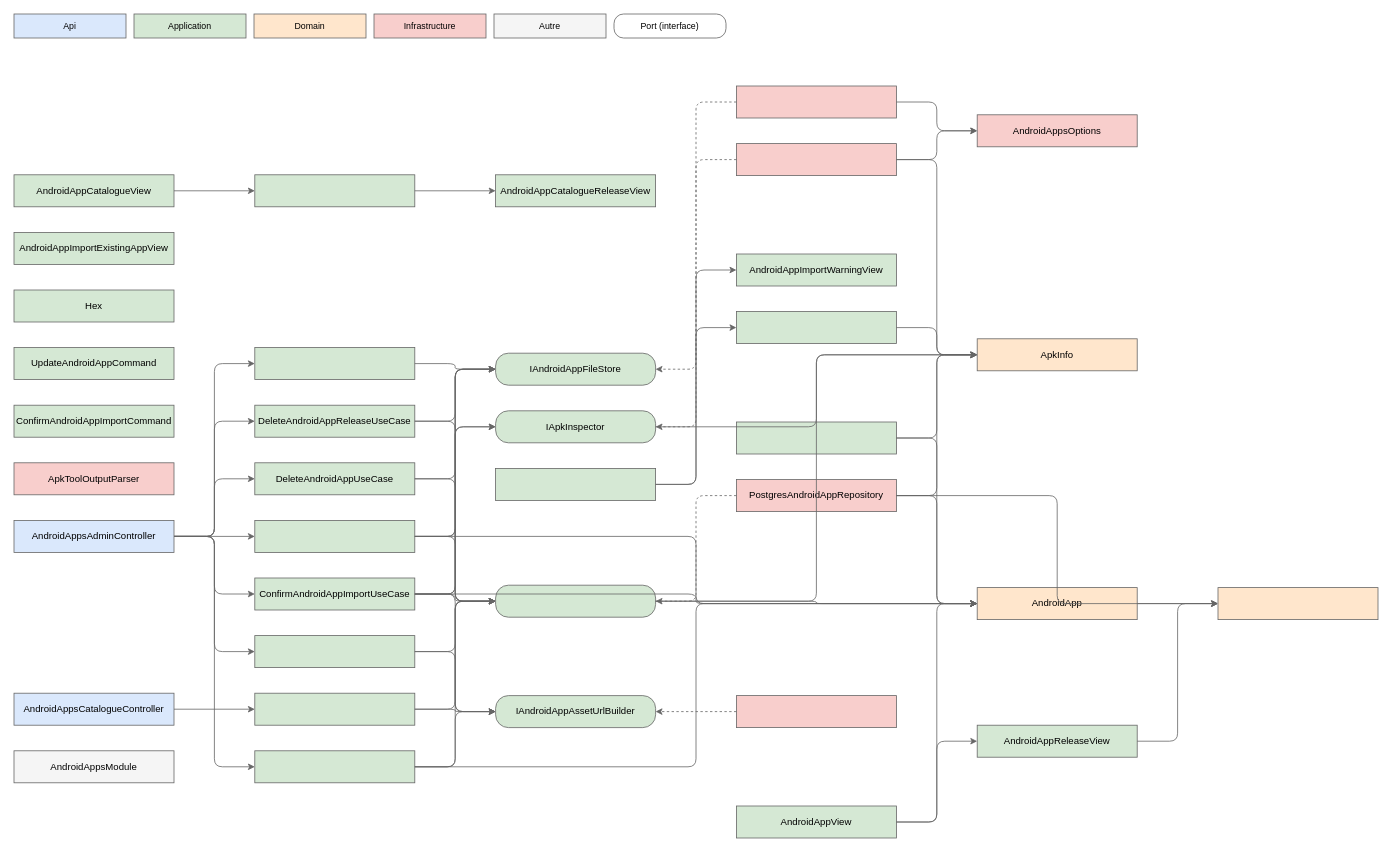
Image size: 1392x852. Some labels were removed from this diagram. Each missing label, with the box of its shape:
AnalyzeAndroidAppImportUseCase: (254, 520, 415, 552)
AndroidAppAssetUrlBuilder: (736, 695, 896, 728)
AndroidAppCatalogueAppView: (254, 174, 415, 207)
AndroidAppImportAnalysisView: (495, 468, 656, 500)
AndroidAppImportRules: (736, 421, 896, 454)
AndroidAppRelease: (1217, 587, 1378, 620)
AndroidBuildToolsApkInspector: (736, 143, 896, 176)
ApkInfoView: (736, 311, 896, 344)
CancelAndroidAppImportUseCase: (254, 347, 415, 380)
FileSystemAndroidAppFileStore: (736, 85, 896, 118)
GetAndroidAppCatalogueUseCase: (254, 692, 415, 725)
IAndroidAppRepository: (495, 584, 656, 617)
ListAndroidAppsUseCase: (254, 635, 415, 668)
UpdateAndroidAppUseCase: (254, 750, 415, 783)
